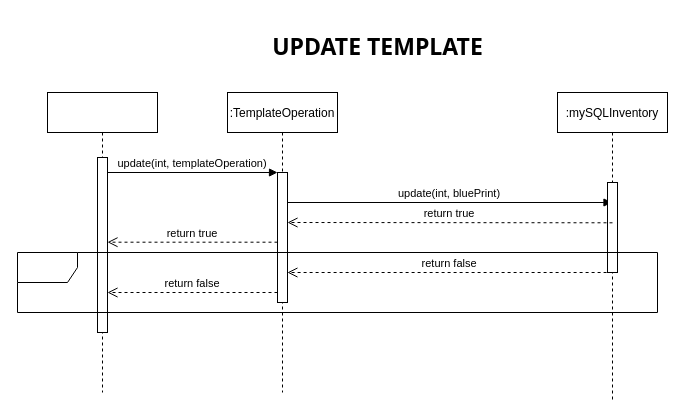
Some shapes in this 685 by 420 pixel diagram are drawn without their labels. The shapes that lost their labels are listed below. From the top down, each one's box as (x1, y1, x2, y2) in pixels, then its label:
(46, 92, 158, 392): :Main
(16, 252, 658, 312): ALT
